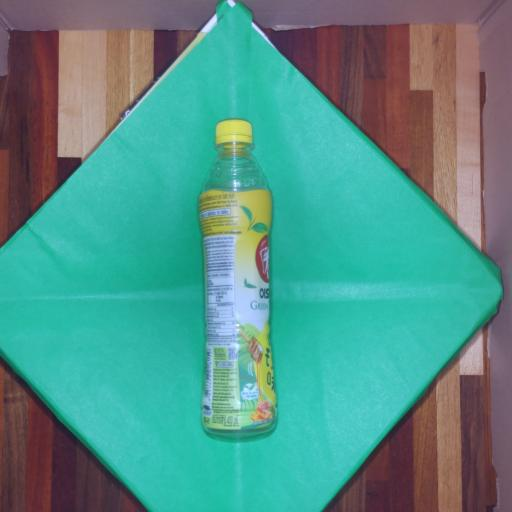bottle: (175, 108, 295, 446)
